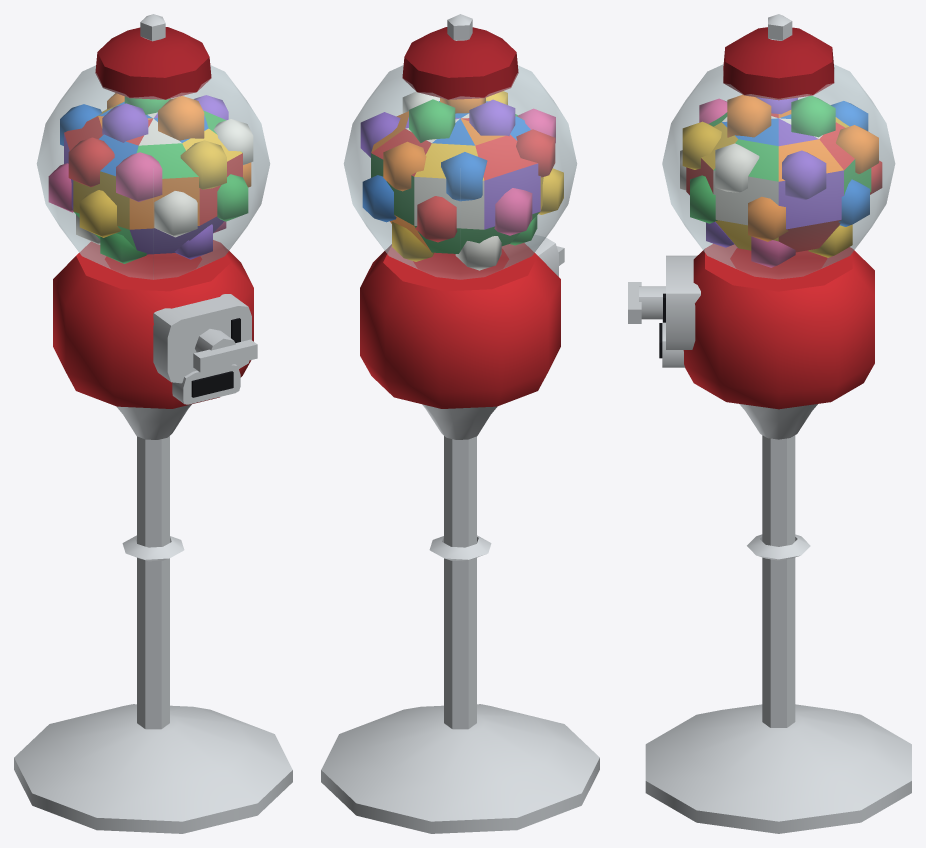
The model's file is Shop_GumballMachine.fbx.
3 renders of one model, left to right at view 1: azimuth 30°, elevation 25°; view 2: azimuth 150°, elevation 25°; view 3: azimuth 270°, elevation 25°, orthographic.
Visible parts, largest first — view 1: Chrome, Glass, Body, Cap, GumYellow, GumPurple, GumGreen, GumOrange, GumWhite, GumRed, GumPink, GumBlue (+1 smaller); view 2: Chrome, Glass, Body, Cap, GumRed, GumPurple, GumGreen, GumBlue, GumWhite, GumYellow, GumOrange, GumPink; view 3: Chrome, Glass, Body, Cap, GumOrange, GumPurple, GumGreen, GumWhite, GumYellow, GumRed, GumBlue, GumPink.
Part boxes in pixels (x1,y1,x2,y2): Chrome: (14,14,292,833); Glass: (37,65,269,279); Body: (53,240,253,408); Cap: (95,27,211,99); GumYellow: (73,102,241,237); GumPurple: (64,95,228,259); GumGreen: (74,96,248,263); GumOrange: (98,93,251,229); GumWhite: (76,112,253,244); GumRed: (64,116,242,225); GumPink: (48,152,226,232); GumBlue: (60,102,208,175); Chrome: (321,14,599,833); Glass: (344,65,576,279); Body: (360,243,560,408); Cap: (402,27,518,99); GumRed: (372,116,555,242); GumPurple: (360,99,540,229); GumGreen: (371,99,539,253); GumBlue: (362,101,530,222); GumWhite: (402,91,501,270); GumYellow: (392,91,563,261); GumOrange: (371,98,504,251); GumPink: (494,108,555,235); Chrome: (628,14,911,833); Glass: (662,64,895,278); Body: (683,244,874,409); Cap: (723,27,834,100); GumOrange: (727,95,878,241); GumPurple: (706,97,843,247); GumGreen: (690,96,871,223); GumWhite: (680,116,822,225); GumYellow: (682,117,852,257); GumRed: (686,113,882,252); GumBlue: (722,101,869,226); GumPink: (699,98,795,267).
Size of the model in its own units: 144 by 432 by 146.
